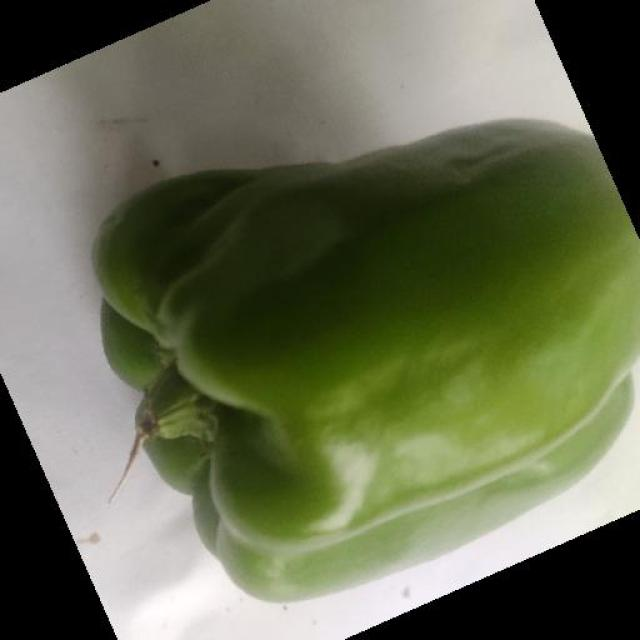Stale_Capsicum: (17, 127, 624, 380)
